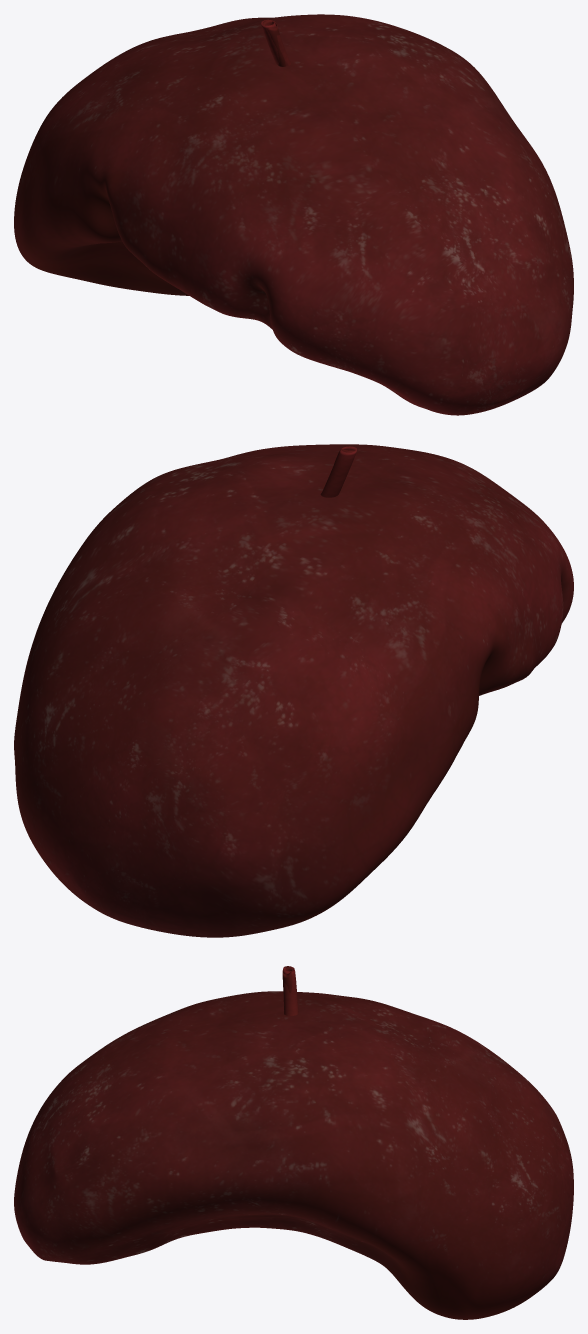
File: spleen.glb
3 views of the same model, one above another, from view 1: azimuth 30°, elevation 25°; view 2: azimuth 150°, elevation 25°; view 3: azimuth 270°, elevation 25° (orthographic). The views are drawn at different scales.
Parts seen in each view (by area): view 1: Line001_Default Material_0 (×3); view 2: Line001_Default Material_0 (×3), Tube001_Default Material2_0; view 3: Line001_Default Material_0 (×3), Tube001_Default Material2_0.
Part boxes in pixels (x1,y1,x2,y2): Line001_Default Material_0 (×3): [14, 14, 573, 415]; Line001_Default Material_0 (×3): [14, 444, 573, 937]; Tube001_Default Material2_0: [320, 446, 356, 497]; Line001_Default Material_0 (×3): [14, 991, 573, 1319]; Tube001_Default Material2_0: [283, 966, 298, 1015].
Bounding box in the file's own units: 22.23 × 20.29 × 33.32.
3 materials, 3 textured.
